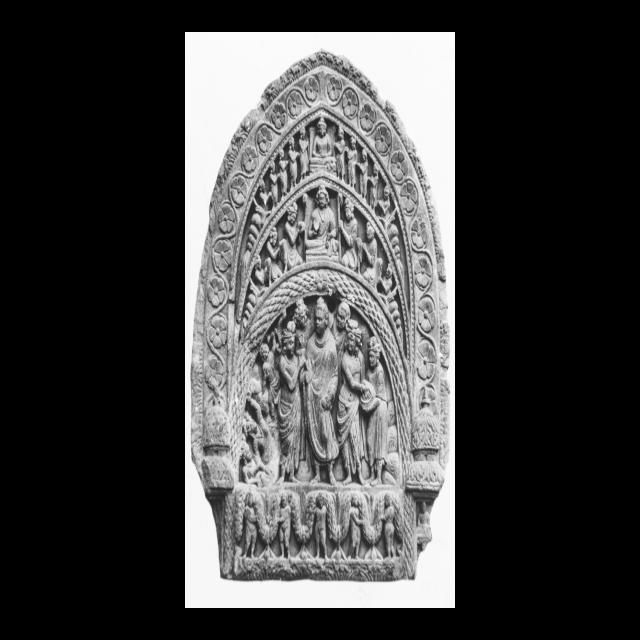buddha-sitting: (305, 185, 339, 262), (309, 114, 336, 174)
buddha-standing: (301, 298, 339, 484)
